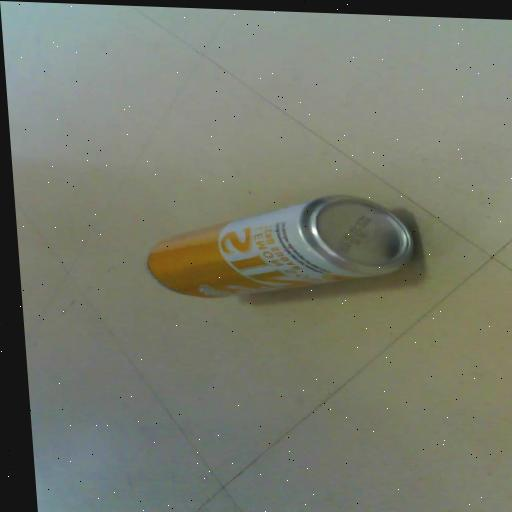canned: (131, 185, 433, 310)
